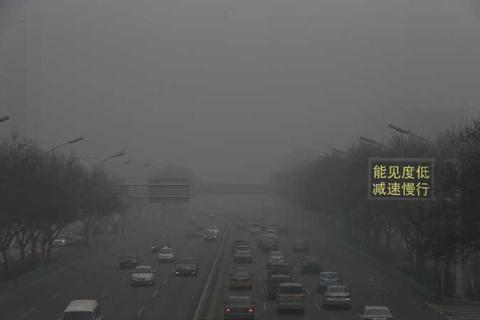bus: (62, 298, 100, 320)
car: (276, 282, 308, 314), (222, 295, 258, 320), (265, 273, 294, 300), (322, 284, 352, 310), (229, 268, 255, 291), (129, 265, 157, 286), (356, 305, 394, 320), (174, 256, 200, 277), (317, 272, 343, 292), (267, 263, 292, 281), (300, 256, 324, 273), (232, 244, 253, 263), (119, 251, 140, 269), (151, 236, 172, 254), (260, 235, 279, 253), (156, 246, 176, 262), (266, 251, 287, 266), (292, 239, 311, 253), (50, 234, 68, 247), (248, 222, 261, 236)
